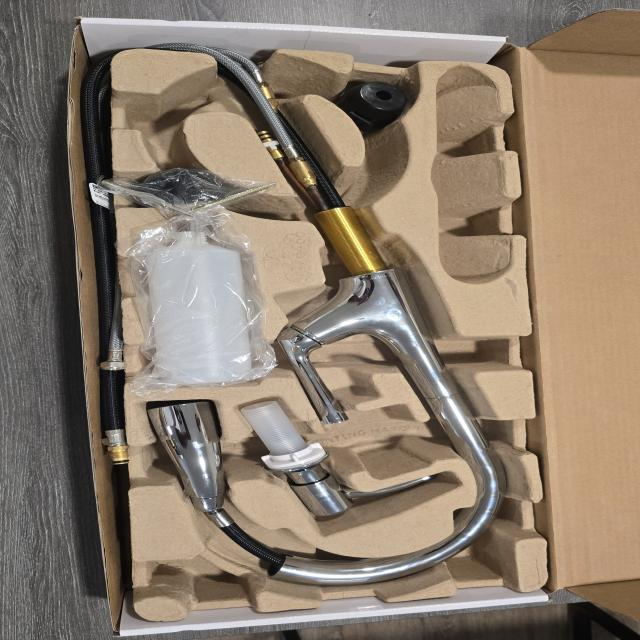1: (147, 49, 512, 587)
2: (236, 398, 435, 520)
3o: (139, 210, 260, 388)
4m: (430, 65, 510, 283)
5: (334, 81, 410, 136)
6m: (125, 76, 225, 151)
7: (99, 167, 278, 228)
